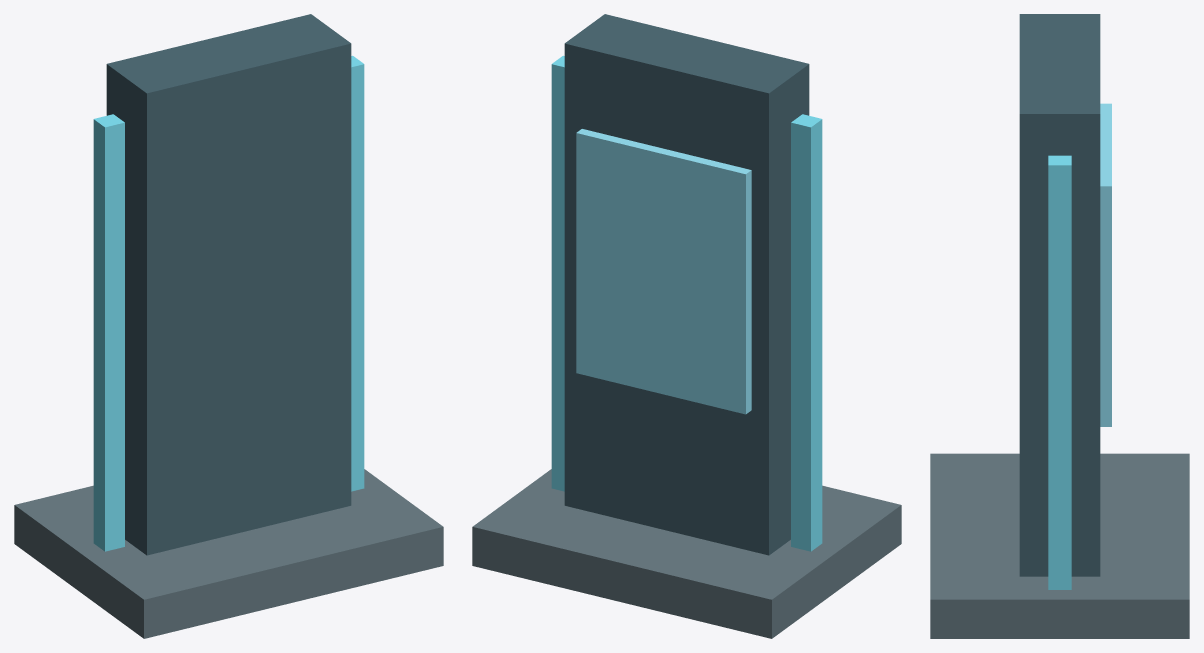
File: campus-smart-kiosk-lod1.glb
The picture shows the model from 3 angles, left to right: view 1: azimuth 30°, elevation 25°; view 2: azimuth 150°, elevation 25°; view 3: azimuth 270°, elevation 25°; orthographic projection.
Visible parts, largest first — view 1: body, base, edgeL, edgeR; view 2: body, screen, base, edgeL, edgeR; view 3: base, body, edgeR, screen.
Boxes of the visible parts, x1,y1,x2,y2 form: body: [106, 14, 351, 555]; base: [14, 469, 443, 638]; edgeL: [93, 114, 124, 551]; edgeR: [351, 55, 364, 491]; body: [564, 14, 809, 555]; screen: [576, 129, 751, 414]; base: [472, 469, 901, 638]; edgeL: [791, 114, 822, 551]; edgeR: [551, 55, 564, 491]; base: [930, 453, 1189, 638]; body: [1019, 14, 1100, 576]; edgeR: [1048, 155, 1071, 589]; screen: [1100, 103, 1111, 426].
Size of the model in its own units: 1.2 by 1.92 by 0.9.
